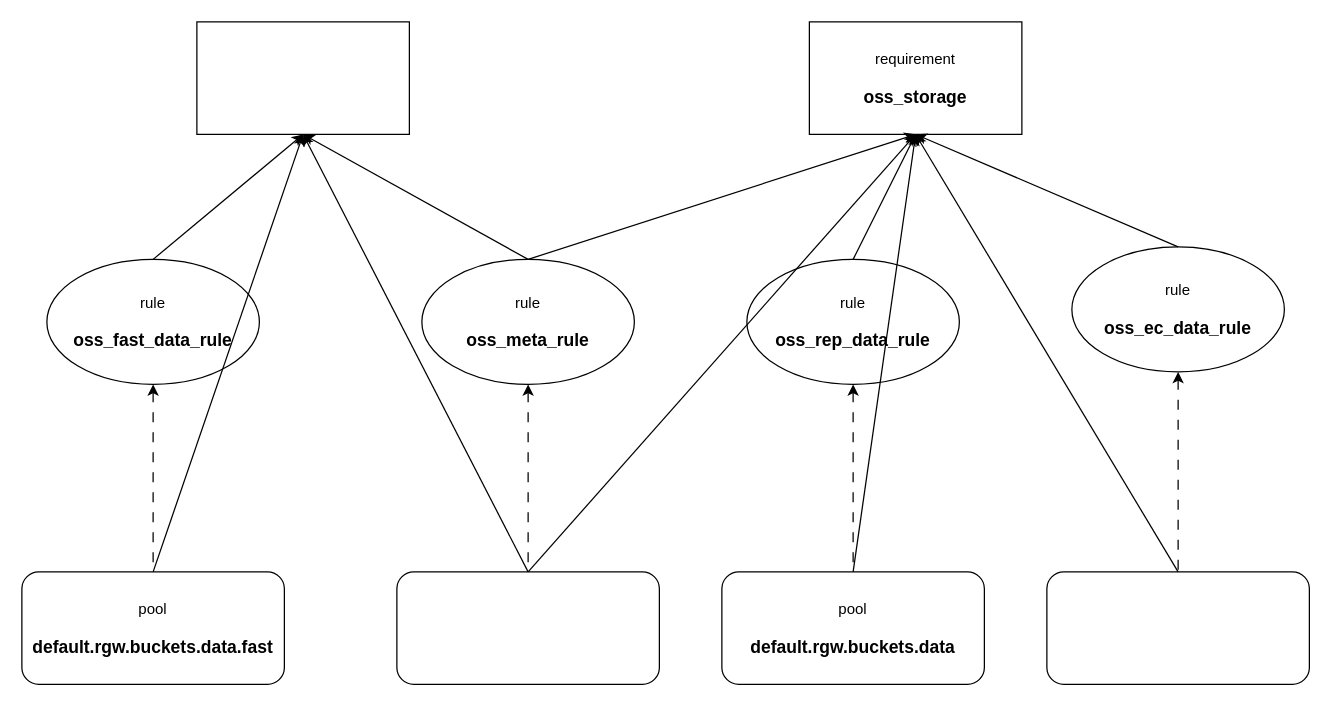
The diagram is 1331 pixels wide and 706 high, and some of its shapes have lost their labels. The shapes that lost their labels are listed below. From the top down, each one's box as (x1, y1, x2, y2) in pixels, then its label:
(196, 21, 409, 134): requirement fast_oss_storage
(396, 571, 659, 684): pool meta-pools
(1046, 571, 1309, 684): pool default.rgw.buckets.data.ec
